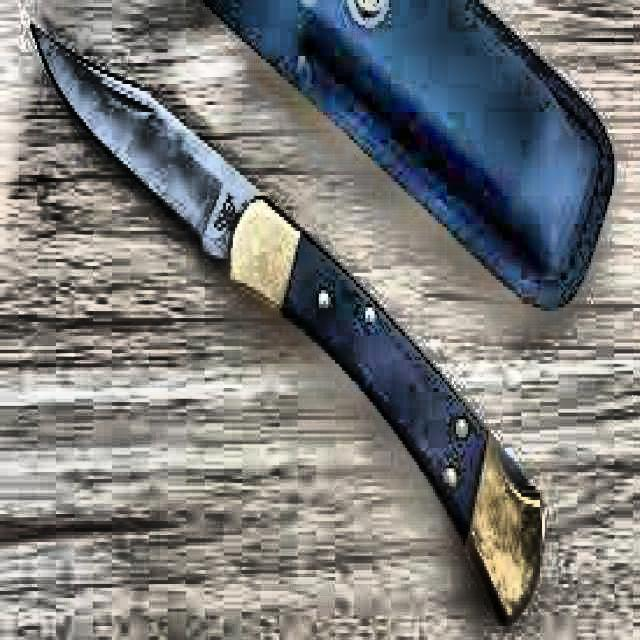knife: (29, 11, 558, 633)
